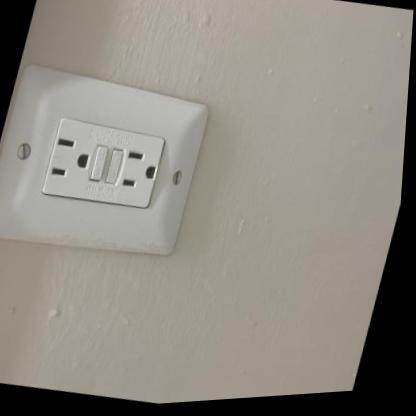OUTLET: (0, 49, 219, 276)
